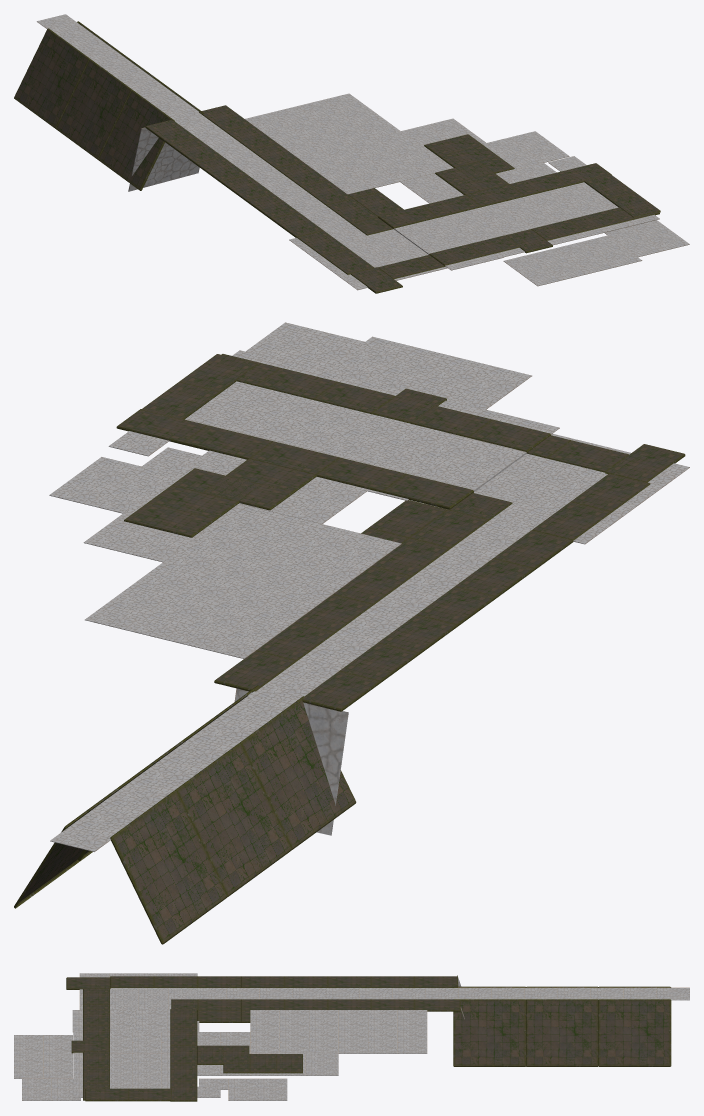
3 renders of one model, top to bottom at view 1: azimuth 30°, elevation 25°; view 2: azimuth 150°, elevation 25°; view 3: azimuth 270°, elevation 25°, orthographic. The views are drawn at different scales.
Visible parts, largest first — view 1: polySurface3122__13_; view 2: polySurface3122__13_; view 3: polySurface3122__13_.
Boxes of the visible parts, x1,y1,x2,y2 form: polySurface3122__13_: (14, 14, 689, 293); polySurface3122__13_: (14, 322, 689, 944); polySurface3122__13_: (14, 973, 689, 1101).
Size of the model in its own units: 2775 by 642 by 6161.
